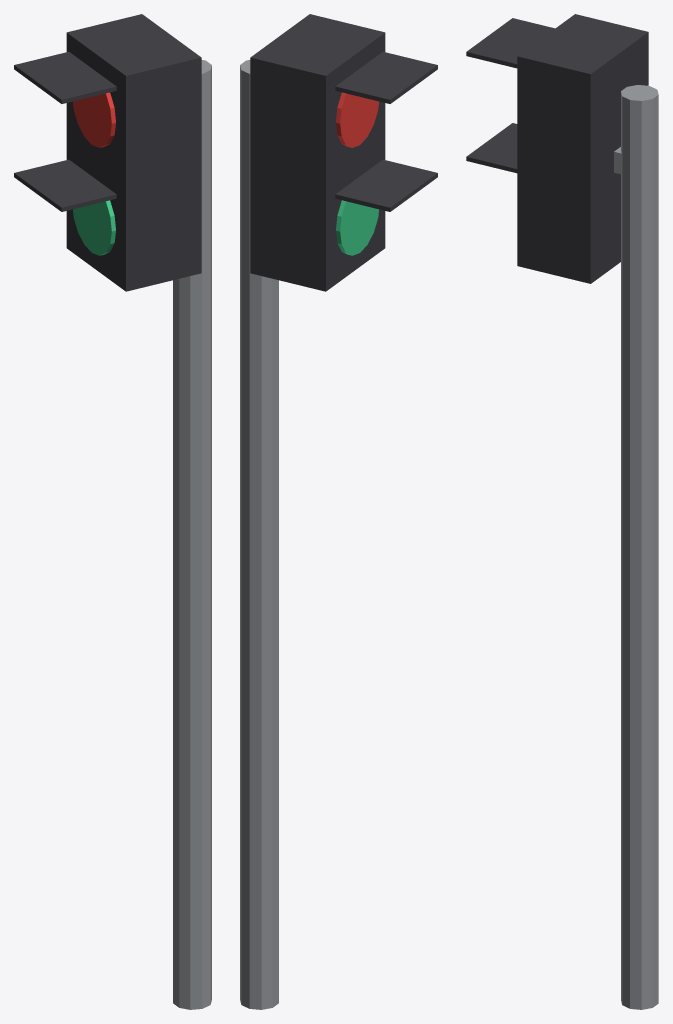
File: peoes.glb
The picture shows the model from 3 angles, left to right: view 1: azimuth 30°, elevation 25°; view 2: azimuth 150°, elevation 25°; view 3: azimuth 330°, elevation 25°; orthographic projection. The views are drawn at different scales.
Parts seen in each view (by area): view 1: peoes; view 2: peoes; view 3: peoes.
Boxes of the visible parts, x1,y1,x2,y2 form: peoes: [14, 14, 211, 1009]; peoes: [240, 14, 437, 1009]; peoes: [466, 14, 658, 1009].
Bounding box in the file's own units: 0.4976 × 2.7 × 0.3.
